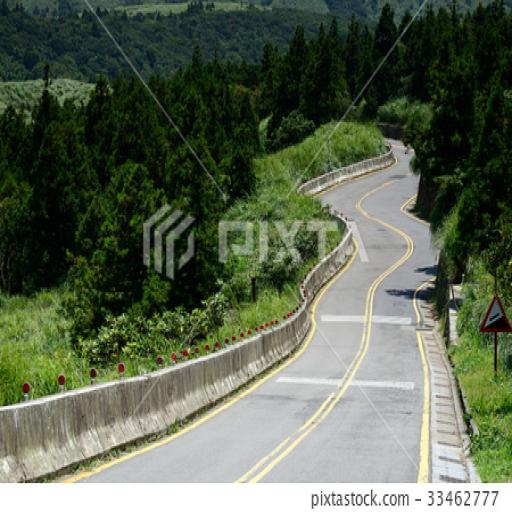yellowline: (58, 218, 361, 483), (411, 276, 442, 486), (297, 144, 397, 188), (399, 186, 432, 225)
